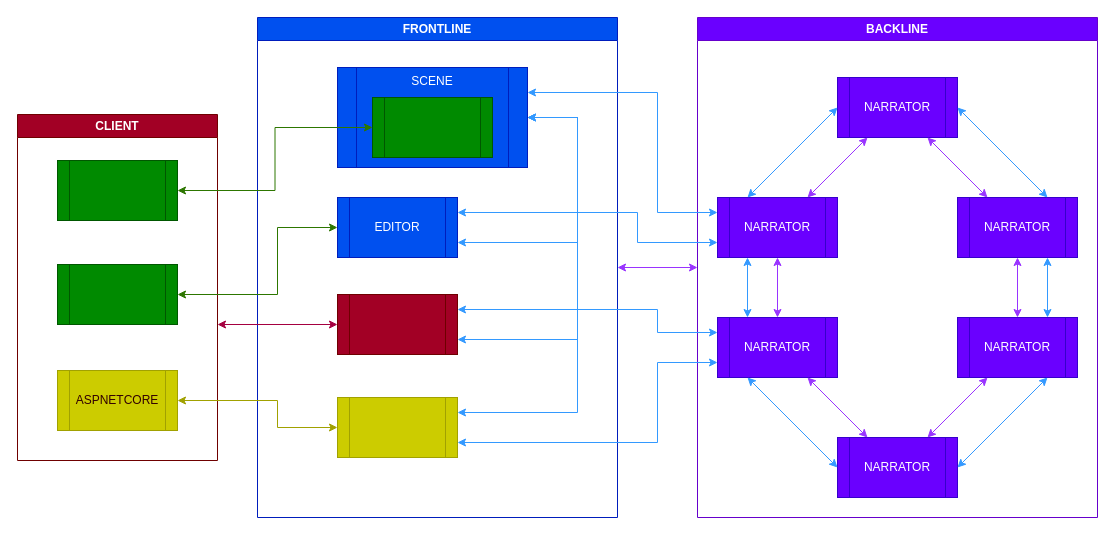
The diagram is 1115 pixels wide and 535 high, and some of its shapes have lost their labels. The shapes that lost their labels are listed below. From the top down, each one's centre as x and y in pixels, then its label:
(x=432, y=127): UNREAL SERVER
(x=117, y=190): UNREAL CLIENT
(x=117, y=294): UNREAL EDITOR
(x=397, y=324): CONNECTOR
(x=397, y=427): BAREBONE
